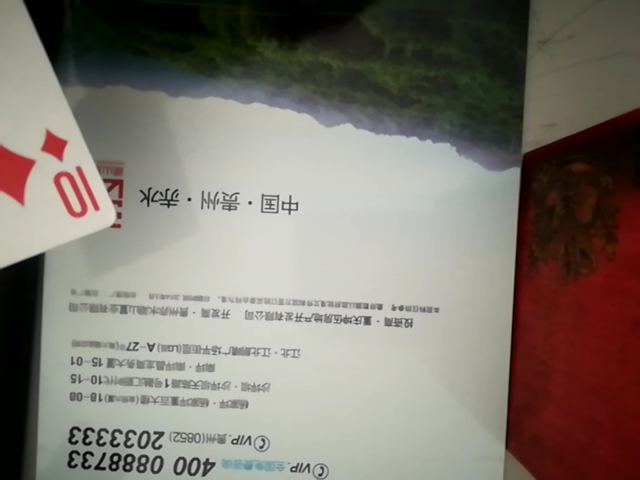fk 10: (1, 0, 123, 397)
